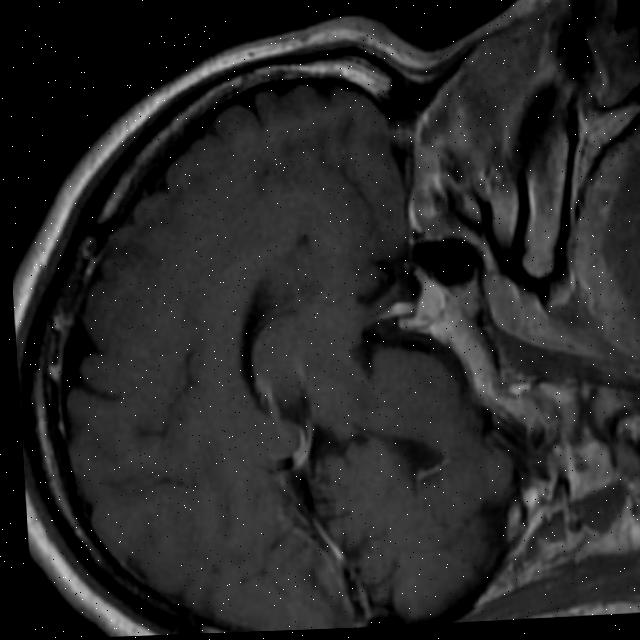Pituitary: (372, 264, 450, 332)
